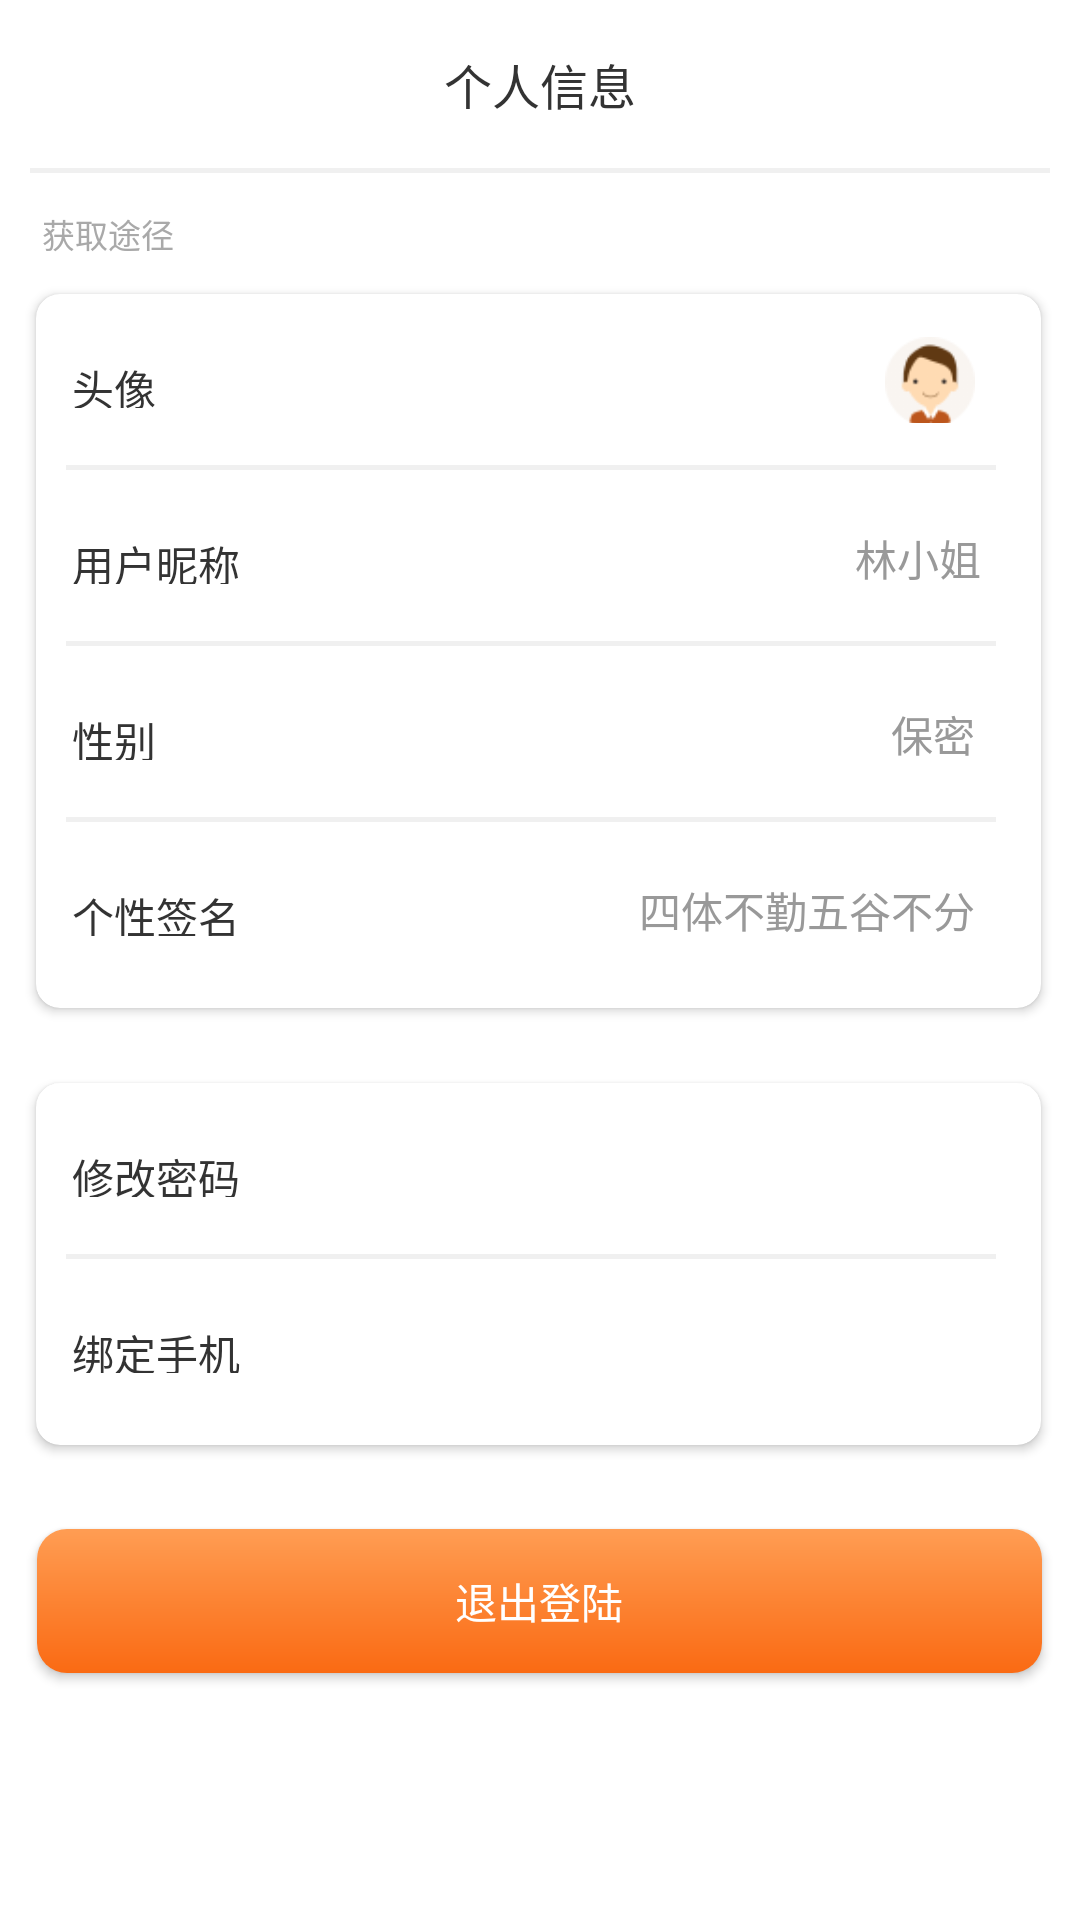

Where icons sit on this 1080 × 1920 app screen, as (x1, y1, x2, y2):
touxiang: (901, 344, 959, 423)
